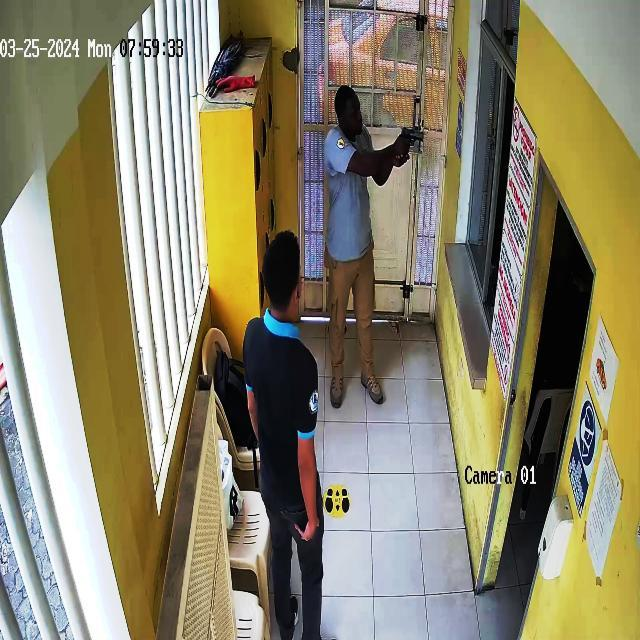Gun: (391, 109, 432, 162)
